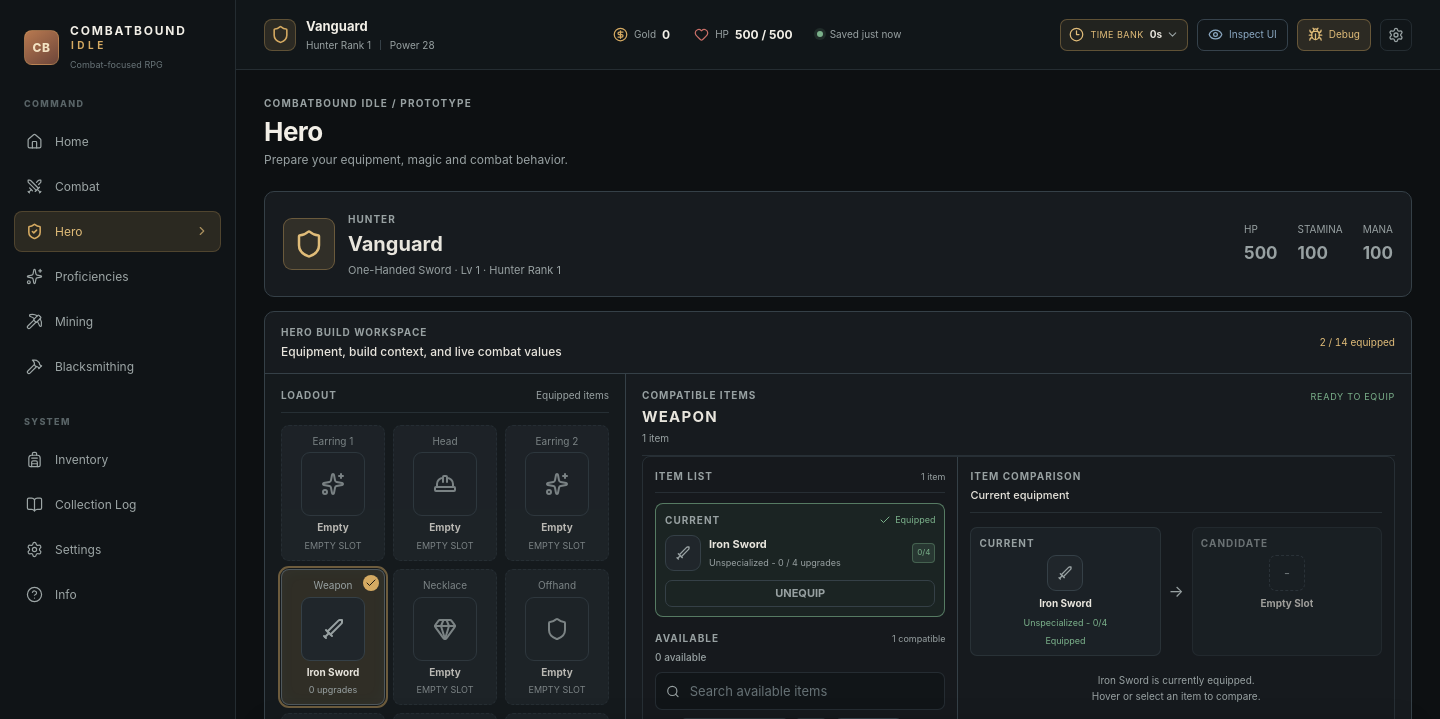
Combat Abilities V14 UI › locks the shared loadout while a hunt is active
Click the button "Combat" at (118, 186), box [14,166,221,207]
(page scrolled)
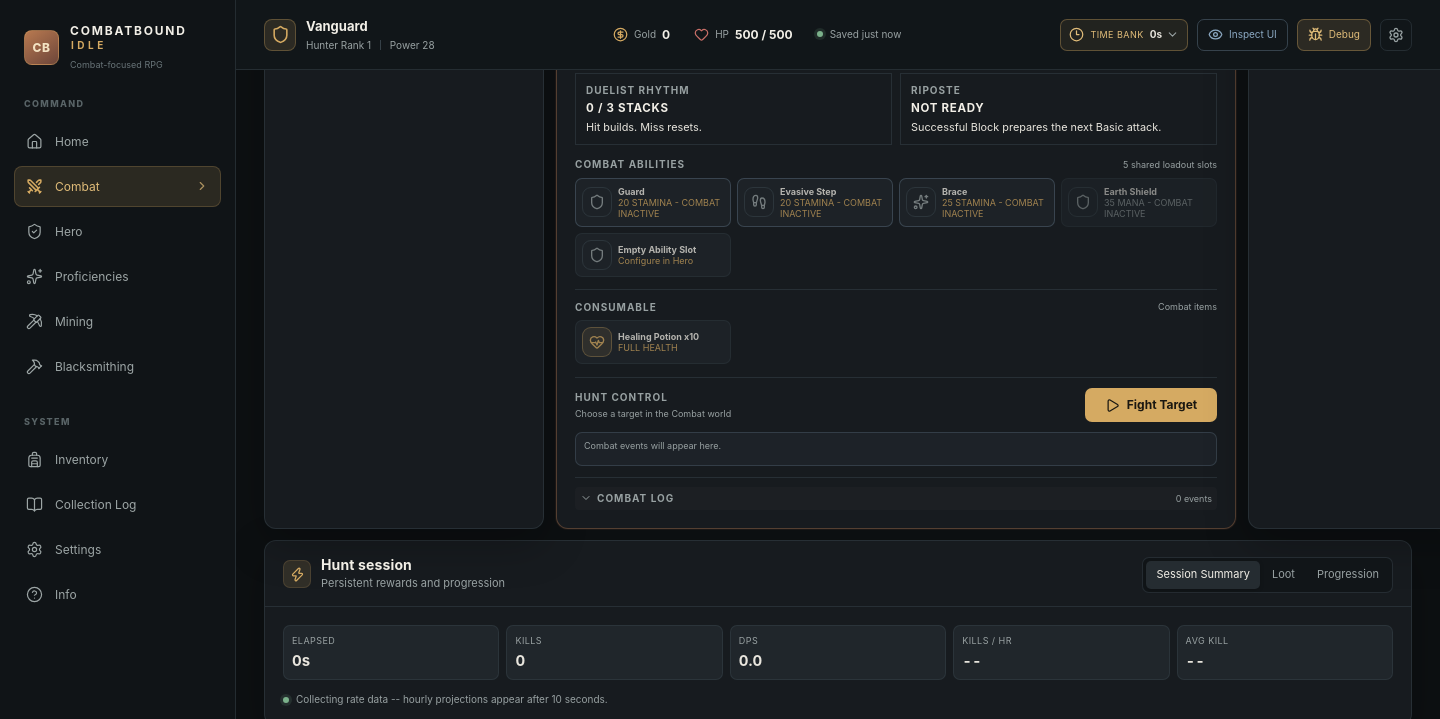
Click the button with aria-label "Start hunt" at (1151, 405), box [1085,388,1217,422]
(page scrolled)
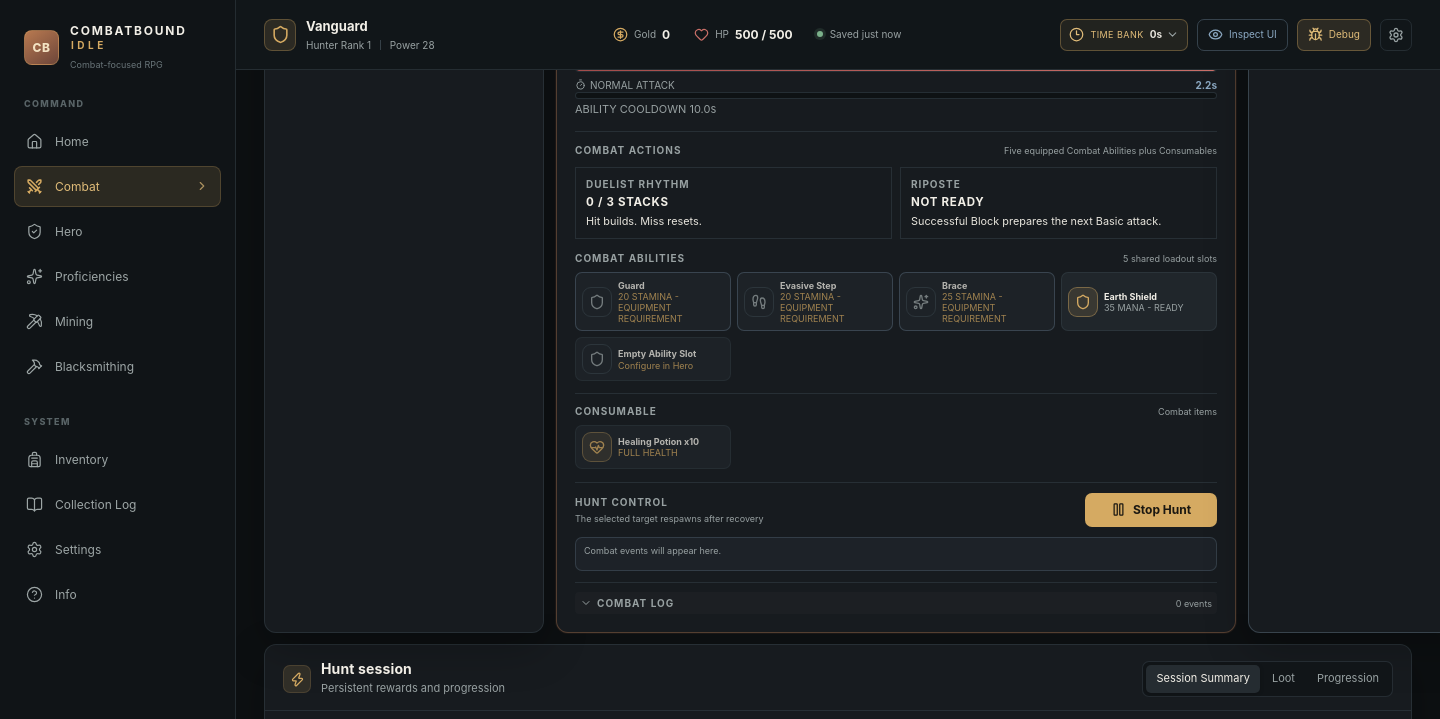
Click the button "Hero" at (118, 232), box [14,211,221,252]
(page scrolled)
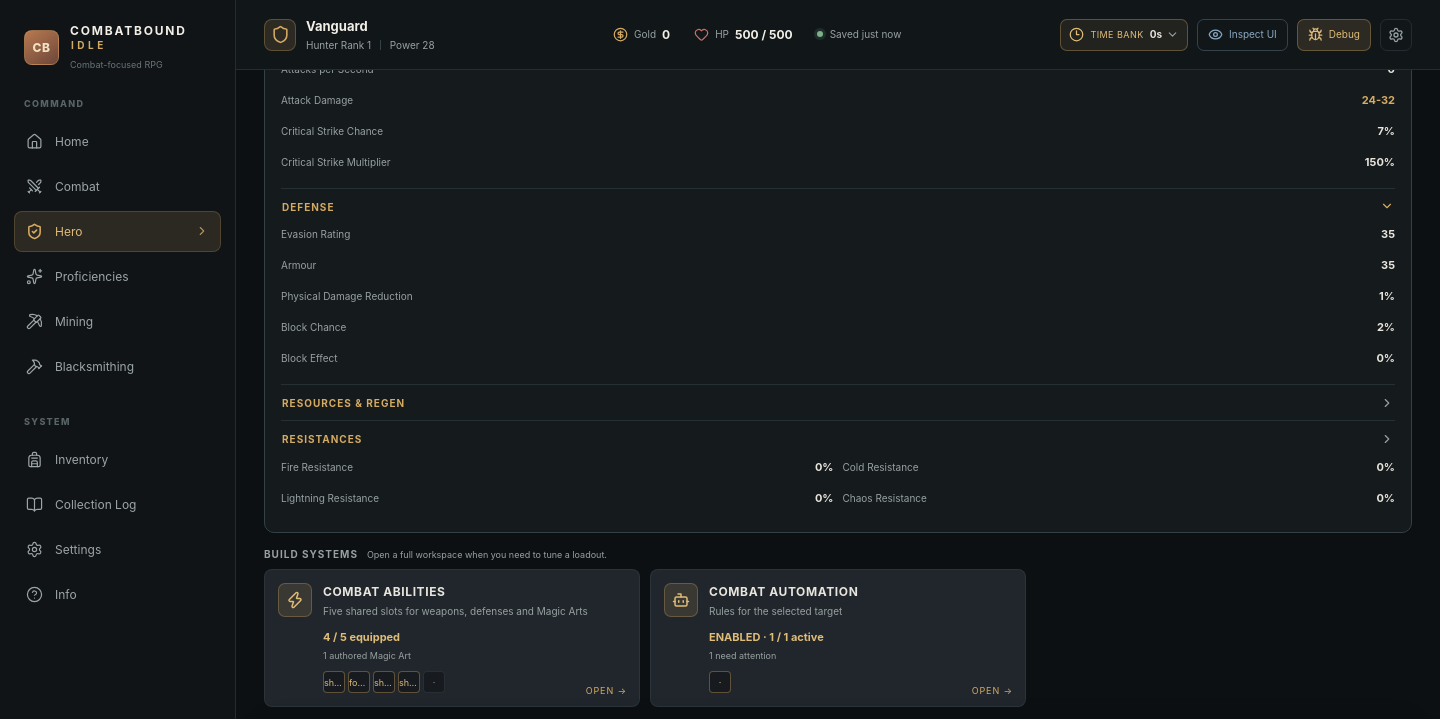
Click the button "COMBAT ABILITIES" at (295, 600), box [264,569,640,708]
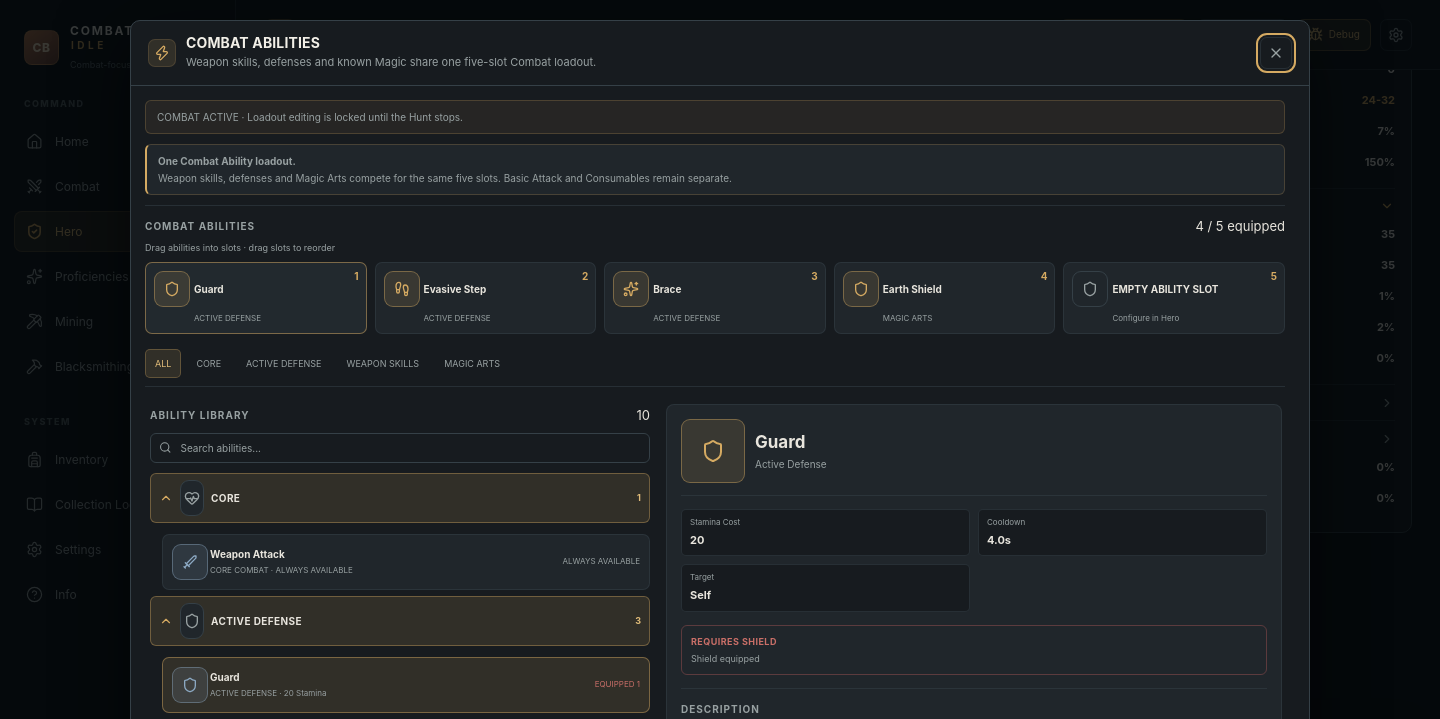
Now the text "Loadout editing is locked" is shown, box [157,111,463,123]
